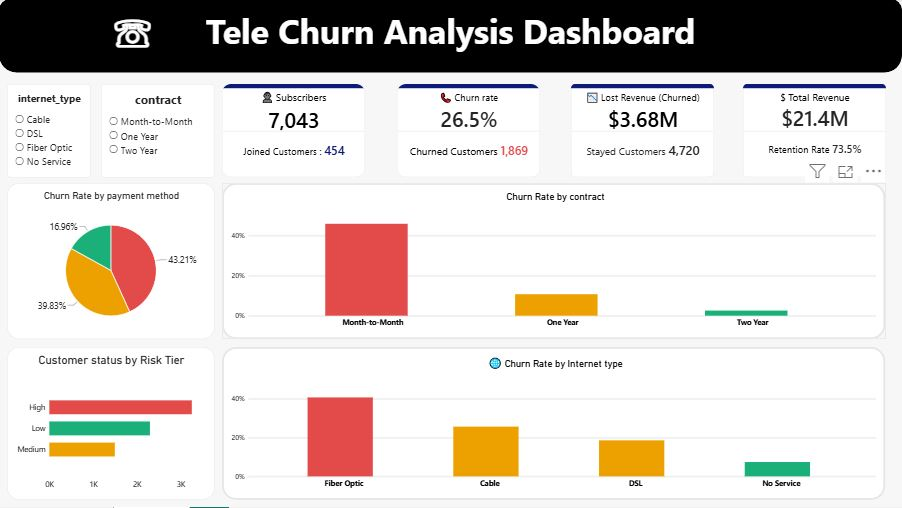

The page's visual inventory and layout, read from the dashboard file:
{"tool":"powerbi","page":{"name":"Page 1","canvas":[1920,1080],"ordinal":0},"visuals":[{"type":"cardVisual","fields":{"Data":["public tele_churn_data.Lost Revenue (Churned)"]},"box":[1216.1,180.1,304,198.8],"z":0},{"type":"cardVisual","fields":{"Data":["public tele_churn_data.Churn Rate"]},"box":[846.6,180.1,304,198.8],"z":1000},{"type":"cardVisual","fields":{"Data":["public tele_churn_data.Total Revenue"]},"box":[1580.9,180.1,304,198.8],"z":2000},{"type":"cardVisual","fields":{"Data":["public tele_churn_data.Total Customers"]},"box":[474.7,180.1,304,198.8],"z":3000},{"type":"shape","box":[0,0,1920,156.7],"z":4000},{"type":"shape","box":[474.7,399.9,1410.2,311],"z":5000},{"type":"columnChart","title":"Churn Rate by contract","fields":{"Y":["public tele_churn_data.Churn Rate"],"Category":["public tele_churn_data.contract"]},"box":[474.7,390.5,1410.2,332.1],"z":6000},{"type":"columnChart","title":"  🌐  Churn Rate by Internet type","fields":{"Y":["public tele_churn_data.Churn Rate"],"Category":["public tele_churn_data.internet_type"]},"box":[474.7,739,1410.2,325.1],"z":7000},{"type":"barChart","title":"Customer status by Risk Tier","fields":{"Category":["public tele_churn_data.Risk Tier"],"Y":["CountNonNull(public tele_churn_data.customer_status)"]},"box":[16.4,739,442,325.1],"z":8000},{"type":"pieChart","title":"Churn Rate by payment method","fields":{"Category":["public tele_churn_data.payment_method"],"Y":["public tele_churn_data.Churn Rate"]},"box":[16.4,390.5,442,332.1],"z":9000},{"type":"shape","box":[95.9,0,376.5,156.7],"z":10000},{"type":"listSlicer","fields":{"Values":["public tele_churn_data.internet_type"]},"box":[16.4,180.1,177.7,198.8],"z":11000},{"type":"listSlicer","fields":{"Values":["public tele_churn_data.contract"]},"box":[217.5,180.1,240.9,198.8],"z":12000}]}

Visuals, with their boxes in screenshot pixels (x1, y1, x2, y2), scaled from the page's 1920x1080 canvas onto the 902x508 screenshot:
cardVisual - public tele_churn_data.Lost Revenue (Churned): <box>571,85,714,178</box>
cardVisual - public tele_churn_data.Churn Rate: <box>398,85,541,178</box>
cardVisual - public tele_churn_data.Total Revenue: <box>743,85,886,178</box>
cardVisual - public tele_churn_data.Total Customers: <box>223,85,366,178</box>
shape: <box>0,0,901,74</box>
shape: <box>223,188,886,334</box>
"Churn Rate by contract" columnChart: <box>223,184,886,340</box>
"  🌐  Churn Rate by Internet type" columnChart: <box>223,348,886,501</box>
"Customer status by Risk Tier" barChart: <box>8,348,215,501</box>
"Churn Rate by payment method" pieChart: <box>8,184,215,340</box>
shape: <box>45,0,222,74</box>
listSlicer - public tele_churn_data.internet_type: <box>8,85,91,178</box>
listSlicer - public tele_churn_data.contract: <box>102,85,215,178</box>
